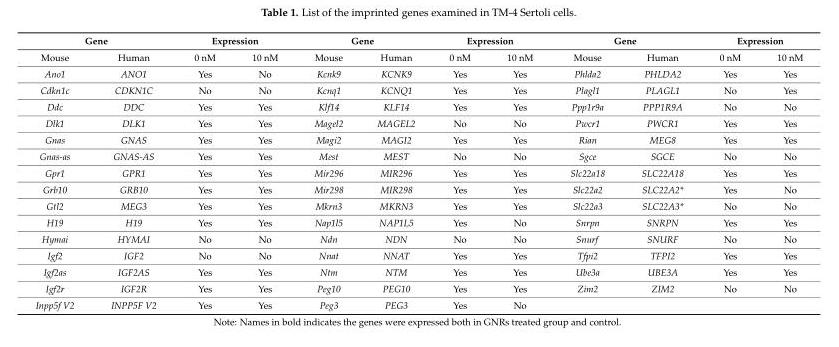table: (34, 34, 802, 310)
table column: (91, 34, 174, 310), (622, 34, 700, 310), (359, 34, 431, 310), (550, 34, 622, 310), (295, 34, 359, 310), (233, 34, 295, 310), (488, 34, 550, 310), (174, 34, 233, 310), (700, 34, 758, 310), (34, 34, 91, 310), (431, 34, 488, 310), (758, 34, 802, 310)
table column header: (34, 34, 802, 65)
table row: (34, 48, 802, 65), (34, 81, 802, 98), (34, 114, 802, 131), (34, 147, 802, 164), (34, 180, 802, 197), (34, 213, 802, 230), (34, 230, 802, 247), (34, 263, 802, 280), (34, 65, 802, 81), (34, 98, 802, 114), (34, 131, 802, 147), (34, 164, 802, 180), (34, 197, 802, 213), (34, 247, 802, 263), (34, 280, 802, 296), (34, 34, 802, 48), (34, 296, 802, 310)
table spanning cell: (550, 34, 700, 48), (34, 34, 174, 48), (295, 34, 431, 48), (174, 34, 295, 48), (431, 34, 550, 48), (700, 34, 802, 48)
